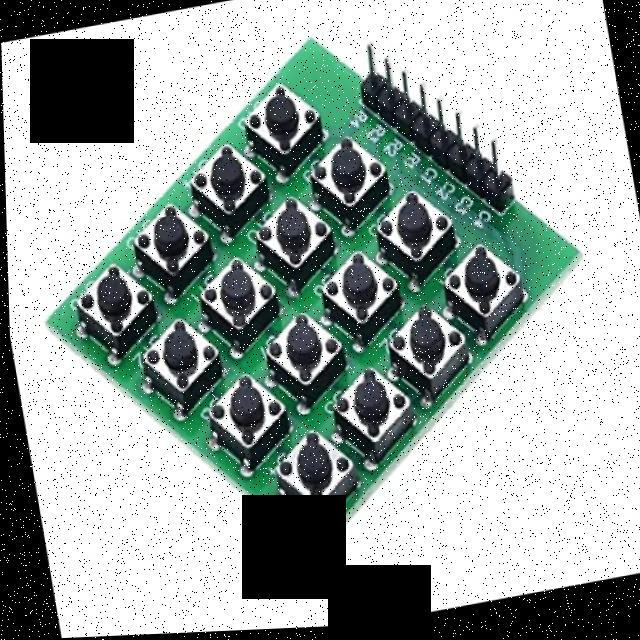2235: (271, 423, 352, 519), (388, 299, 468, 395), (328, 360, 410, 448), (314, 245, 393, 329), (69, 264, 152, 343), (139, 314, 219, 393), (245, 77, 321, 160), (442, 244, 519, 325), (264, 309, 337, 393), (185, 140, 263, 218), (205, 368, 282, 447), (201, 255, 276, 335), (311, 127, 381, 212), (131, 199, 206, 276), (373, 188, 449, 263), (256, 194, 326, 266)
connector -5v-: (354, 26, 519, 210)
